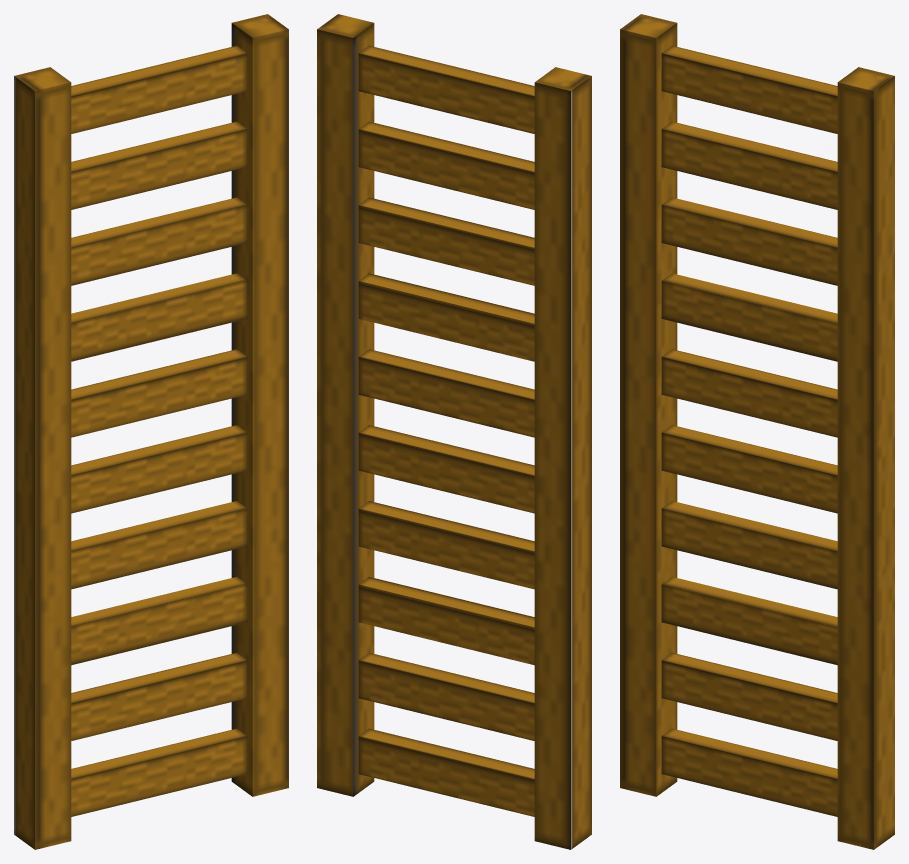
Rendered from Ladder_1.fbx.
3 renders of one model, left to right at view 1: azimuth 30°, elevation 25°; view 2: azimuth 150°, elevation 25°; view 3: azimuth 330°, elevation 25°, orthographic.
Parts seen in each view (by area): view 1: Ladder_1; view 2: Ladder_1; view 3: Ladder_1.
Part boxes in pixels (x1=…): Ladder_1: x1=14, y1=14, x2=288, y2=849; Ladder_1: x1=317, y1=14, x2=591, y2=849; Ladder_1: x1=620, y1=14, x2=894, y2=849.
Bounding box in the file's own units: 140 × 400 × 20.
1 material, 1 textured.
